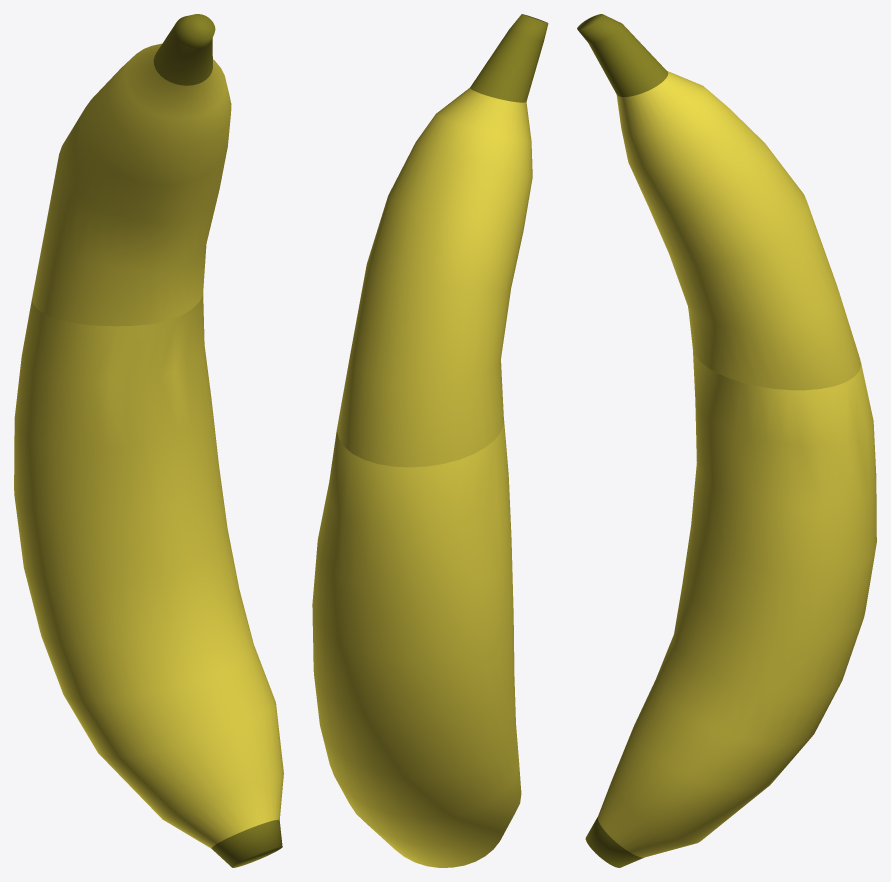
Rendered from random_banana_2.fbx.
The picture shows the model from 3 angles, left to right: view 1: azimuth 30°, elevation 25°; view 2: azimuth 150°, elevation 25°; view 3: azimuth 270°, elevation 25°; orthographic projection. The views are drawn at different scales.
Visible parts, largest first — view 1: Cylinder.047; view 2: Cylinder.047; view 3: Cylinder.047.
Part boxes in pixels (<box>): Cylinder.047: <box>14,14,283,867</box>; Cylinder.047: <box>312,14,548,867</box>; Cylinder.047: <box>577,14,876,867</box>.
Bounding box in the file's own units: 181 × 762 × 252.
